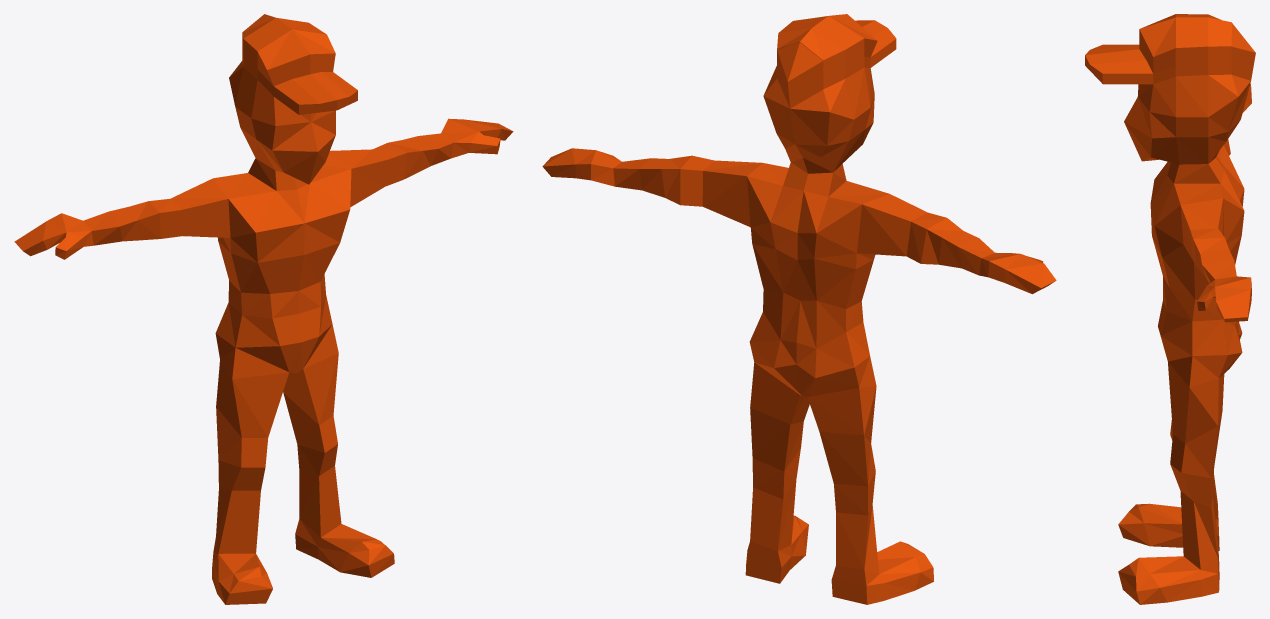
The model's file is Antagonist_Model.fbx.
3 renders of one model, left to right at view 1: azimuth 30°, elevation 25°; view 2: azimuth 150°, elevation 25°; view 3: azimuth 270°, elevation 25°, orthographic. The views are drawn at different scales.
Visible parts, largest first — view 1: Cube.000; view 2: Cube.000; view 3: Cube.000.
Boxes of the visible parts, box(x1,y1,x2,y2) form: Cube.000: box(14, 14, 513, 604); Cube.000: box(542, 14, 1056, 604); Cube.000: box(1085, 14, 1255, 604).
Size of the model in its own units: 1176 by 1241 by 352.
